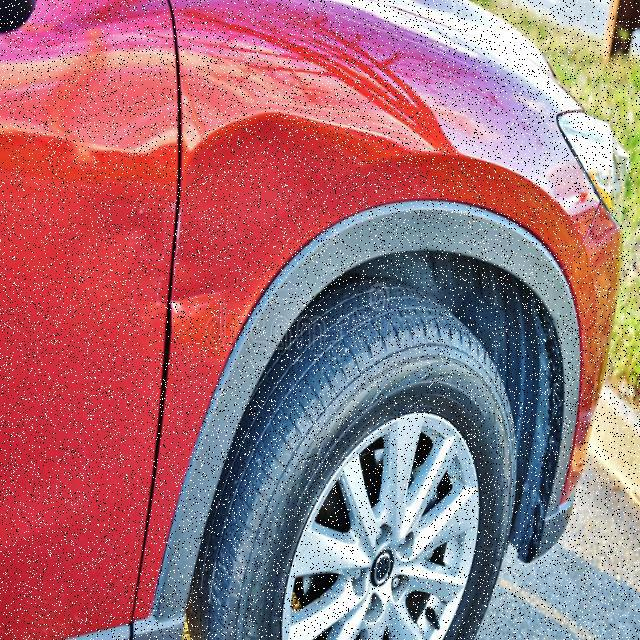fender-dent: (178, 89, 568, 376)
